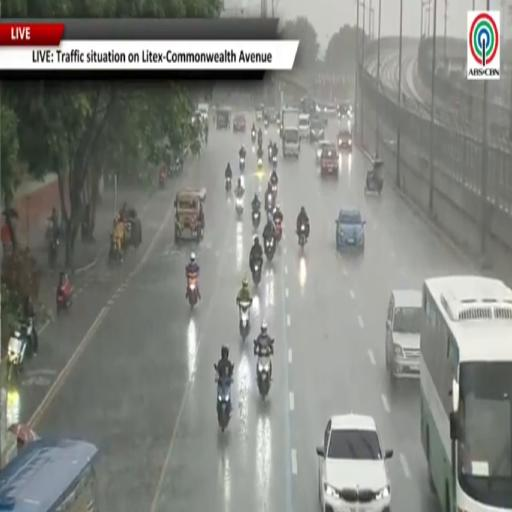bus: (420, 277, 511, 511), (0, 440, 98, 511)
car: (316, 413, 393, 511), (386, 290, 422, 379), (336, 208, 365, 250), (320, 146, 338, 177), (337, 117, 352, 151), (316, 140, 335, 164), (310, 117, 324, 141), (338, 102, 353, 119), (233, 114, 246, 132), (198, 103, 209, 122), (266, 107, 278, 123), (324, 104, 337, 117), (256, 104, 264, 120)
jeepney: (175, 189, 205, 243)
motorcycle: (254, 341, 272, 399), (7, 331, 27, 381), (216, 377, 231, 431), (46, 223, 59, 269), (57, 280, 73, 314), (239, 301, 251, 340), (108, 235, 122, 263), (186, 275, 198, 307), (264, 237, 275, 261), (265, 192, 275, 213), (252, 262, 261, 285), (297, 224, 306, 247), (252, 210, 261, 229), (235, 197, 243, 218), (275, 219, 282, 242), (271, 183, 277, 201), (159, 172, 165, 188), (225, 176, 231, 191), (257, 156, 263, 170), (268, 147, 273, 163), (272, 155, 277, 169), (240, 157, 245, 171), (252, 131, 256, 143), (258, 136, 262, 147), (264, 119, 268, 129)
tricycle: (365, 160, 383, 195)
truck: (282, 108, 300, 157)
